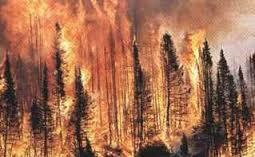fire: (12, 4, 230, 152)
